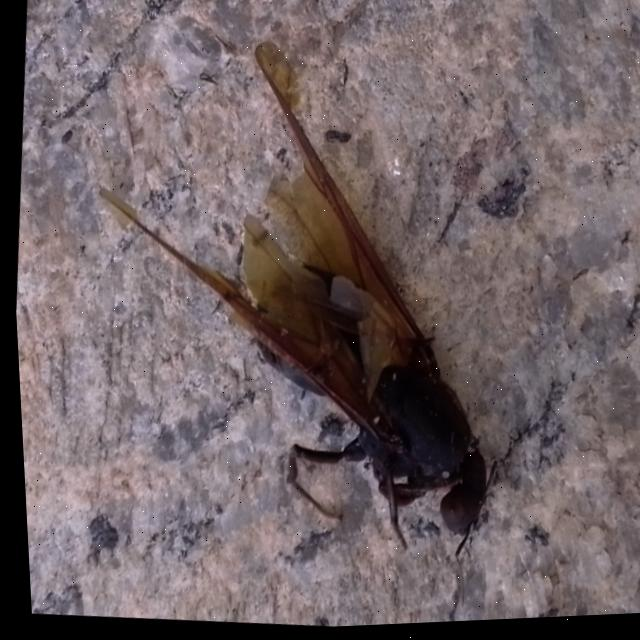Dead-Female-Alate: (58, 18, 530, 580)
